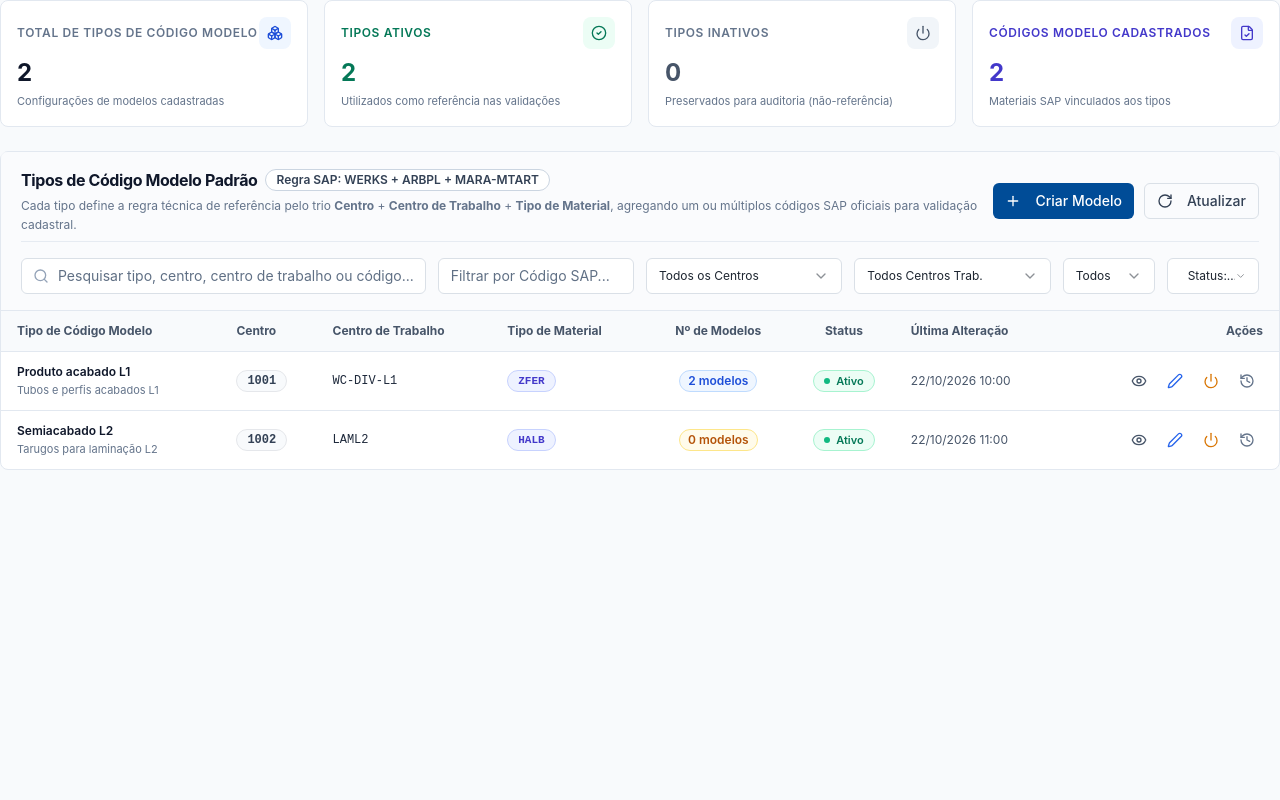
Test: Editar Tipo de Código Modelo Padrão — UI & Acceptance Requirements › 5. Exibe mensagem de duplicidade oficial quando o backend rejeita com colisão de chave
The width and height of the screenshot is (1280, 800).
Expected: the text "Produto acabado L1" is shown, x1=17 y1=364 x2=130 y2=378
Click the button named "Editar Produto acabado L1" at {"x": 1175, "y": 380}, box x1=1159 y1=364 x2=1191 y2=396
(page scrolled)
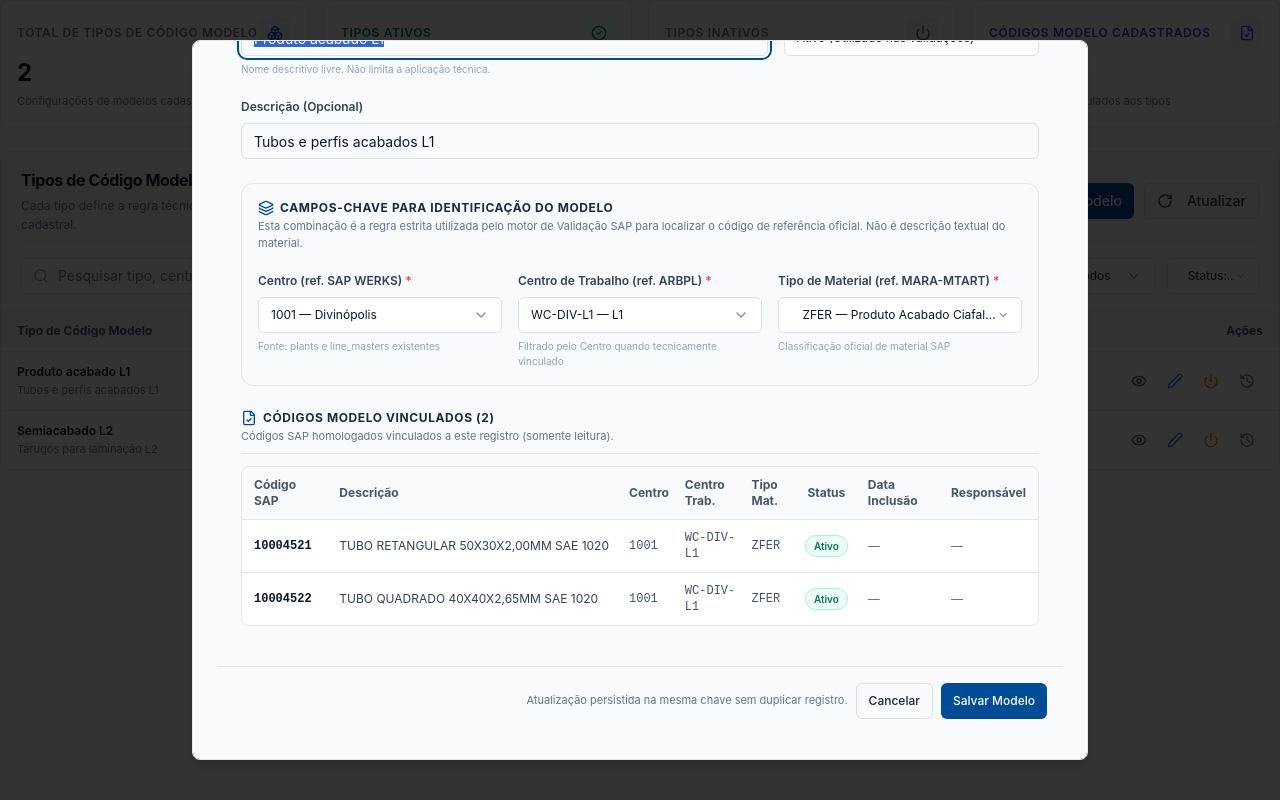
Click the button "Salvar Modelo" at {"x": 994, "y": 700}, box x1=941 y1=682 x2=1047 y2=718
(page scrolled)
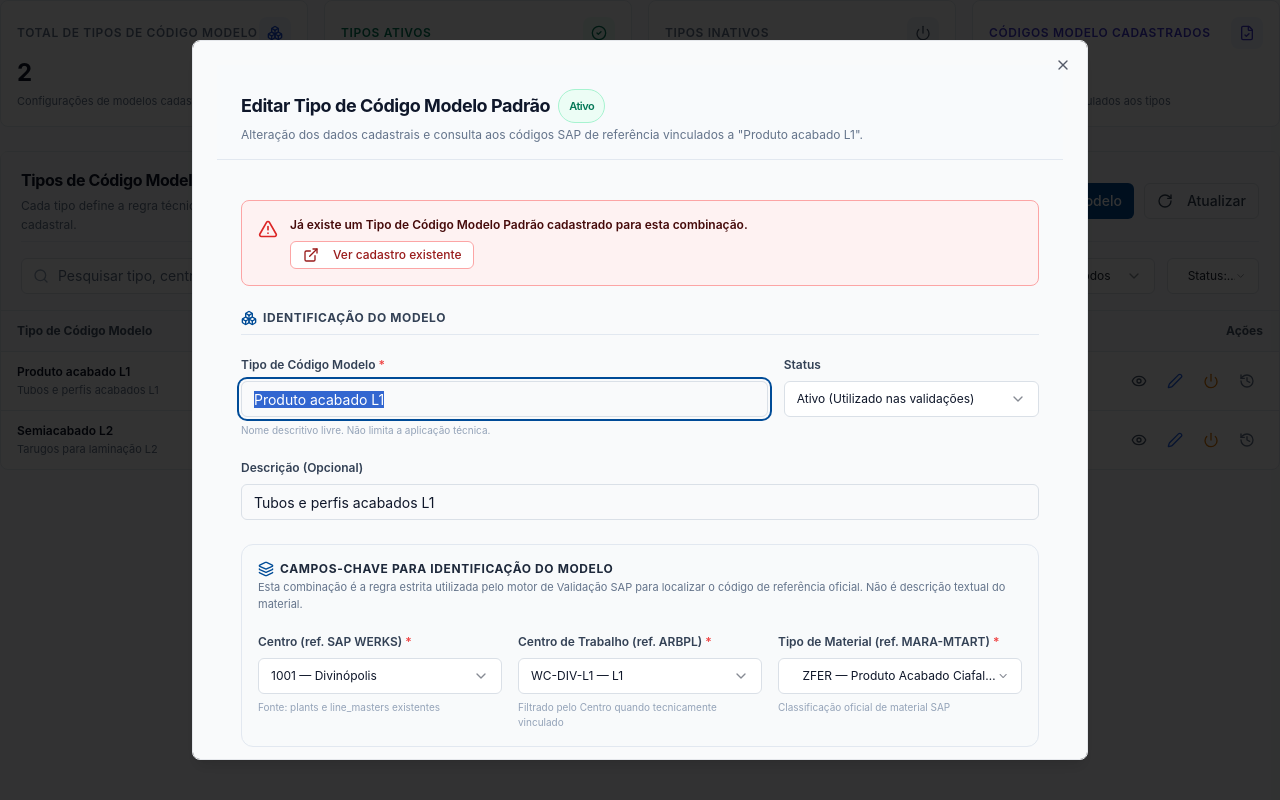
Result: the text "Já existe um Tipo de Código Modelo Padrão cadastrado para esta combinação." is shown at x1=290 y1=217 x2=748 y2=232
Result: the button "Ver cadastro existente" is shown at x1=290 y1=241 x2=474 y2=269
